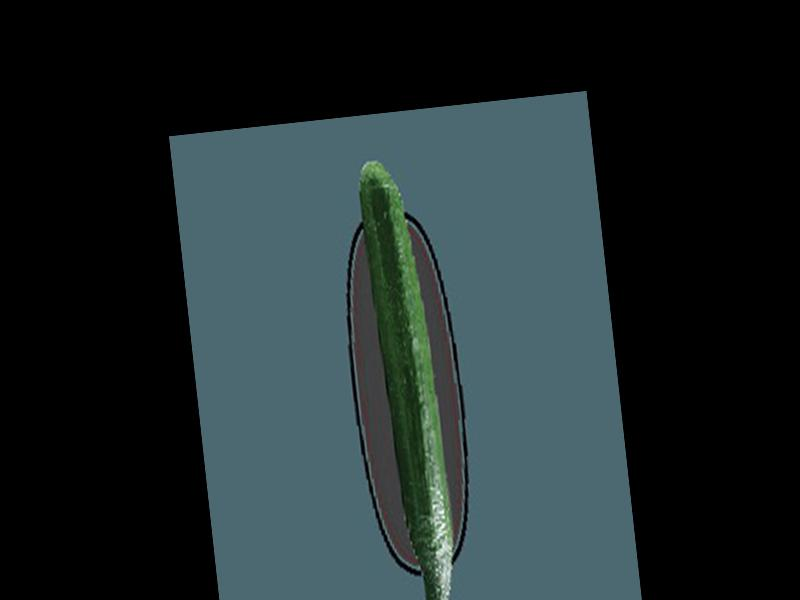Cucumber: (353, 155, 461, 600)
